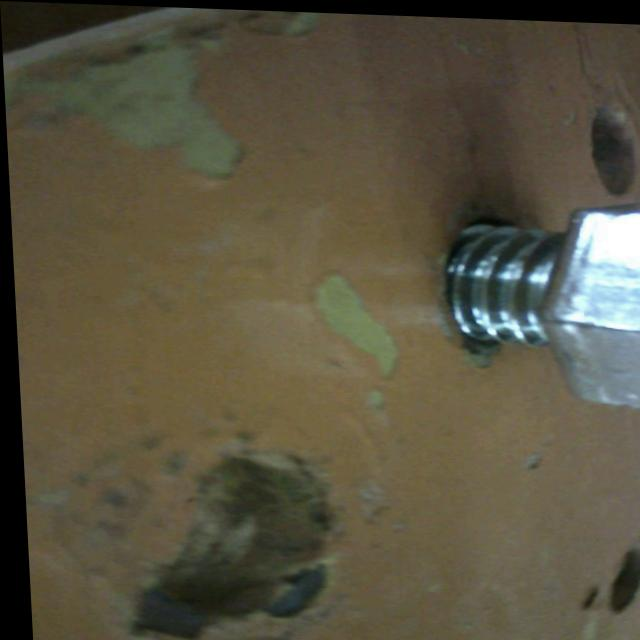Loose bolt: (435, 199, 640, 407)
Missing bolt: (581, 104, 640, 195), (595, 536, 640, 610)
Regular bolt: (431, 201, 640, 402)
